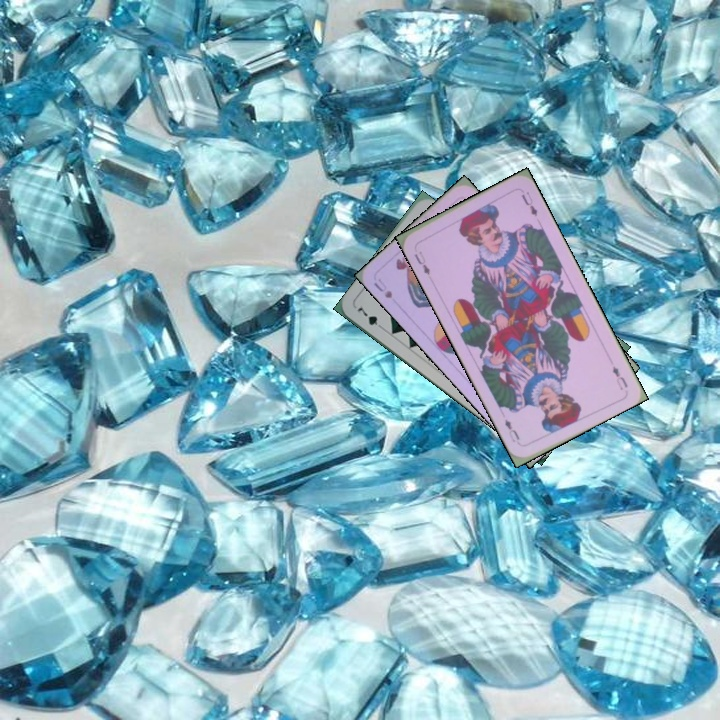EU: (410, 247, 433, 278), (608, 362, 631, 393)
G7: (353, 303, 387, 333)
SU: (370, 274, 395, 301)
